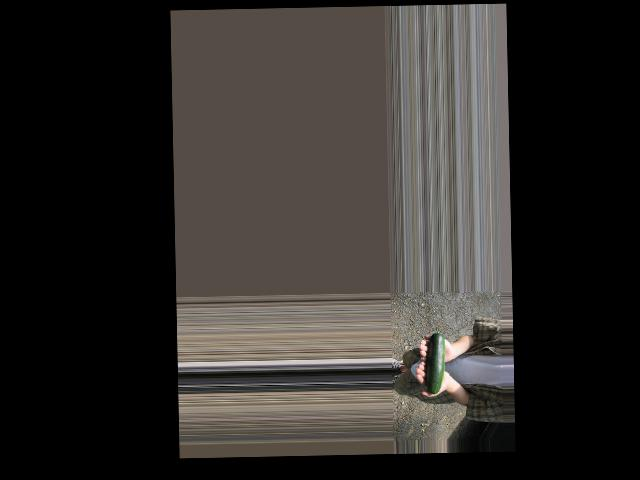cucumber: (424, 325, 445, 393)
